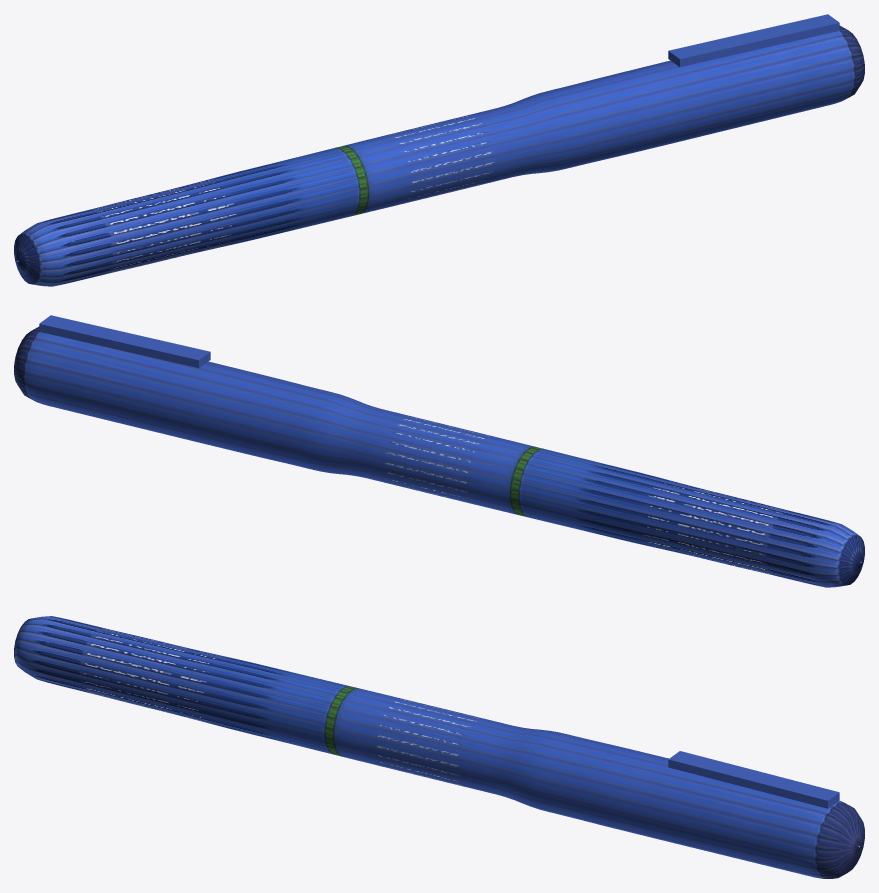
File: classmate-octane.glb
3 views of the same model, one above another, from view 1: azimuth 30°, elevation 25°; view 2: azimuth 150°, elevation 25°; view 3: azimuth 330°, elevation 25° (orthographic).
Parts seen in each view (by area): view 1: classmate-octane_barrel, classmate-octane_clip; view 2: classmate-octane_barrel, classmate-octane_clip; view 3: classmate-octane_barrel, classmate-octane_clip.
Boxes of the visible parts, x1=… form: classmate-octane_barrel: x1=14, y1=25, x2=864, y2=286; classmate-octane_clip: x1=668, y1=14, x2=839, y2=67; classmate-octane_barrel: x1=14, y1=326, x2=864, y2=587; classmate-octane_clip: x1=39, y1=315, x2=210, y2=368; classmate-octane_barrel: x1=14, y1=616, x2=864, y2=878; classmate-octane_clip: x1=668, y1=751, x2=839, y2=808.
Bounding box in the file's own units: 0.143 × 0.0134 × 0.0118.
Materials: 2 (1 with a texture image).
